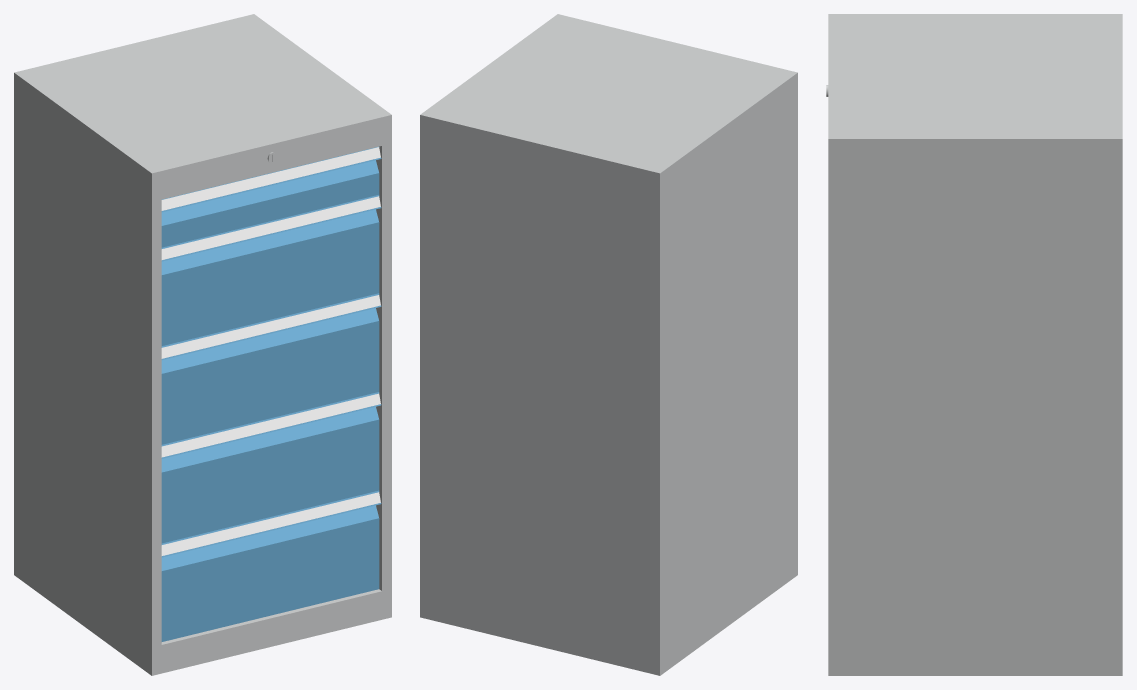
File: prova1x2x1m.gltf
3 views of the same model, side by side, from view 1: azimuth 30°, elevation 25°; view 2: azimuth 150°, elevation 25°; view 3: azimuth 270°, elevation 25° (orthographic). The views are drawn at different scales.
Visible parts, largest first — view 1: mesh_10; view 2: mesh_10; view 3: mesh_10.
Boxes of the visible parts, x1,y1,x2,y2 form: mesh_10: (14, 14, 391, 675); mesh_10: (420, 14, 797, 675); mesh_10: (826, 14, 1122, 675).
Bounding box in the file's own units: 100 × 200 × 100.
